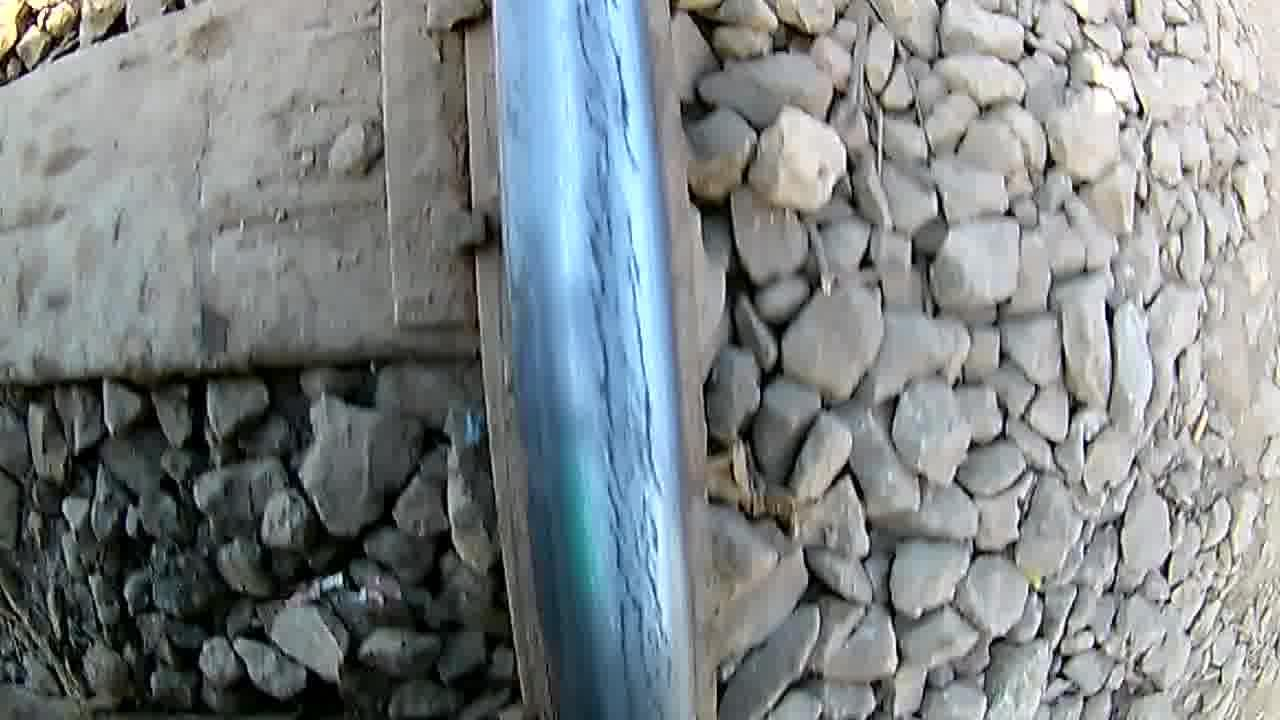normal_track: (557, 4, 667, 708)
